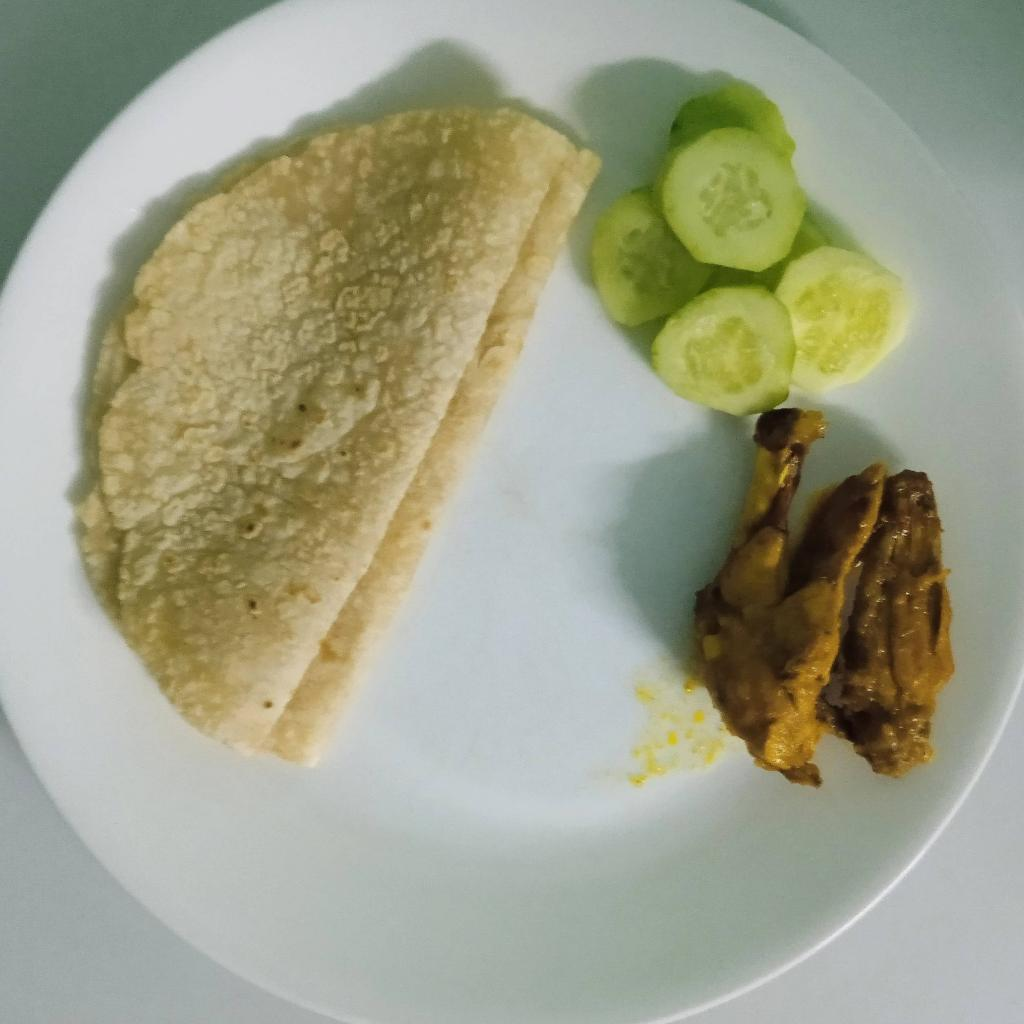chicken: (690, 411, 961, 794)
cucumber: (594, 65, 910, 414)
ruti: (80, 105, 605, 770)
